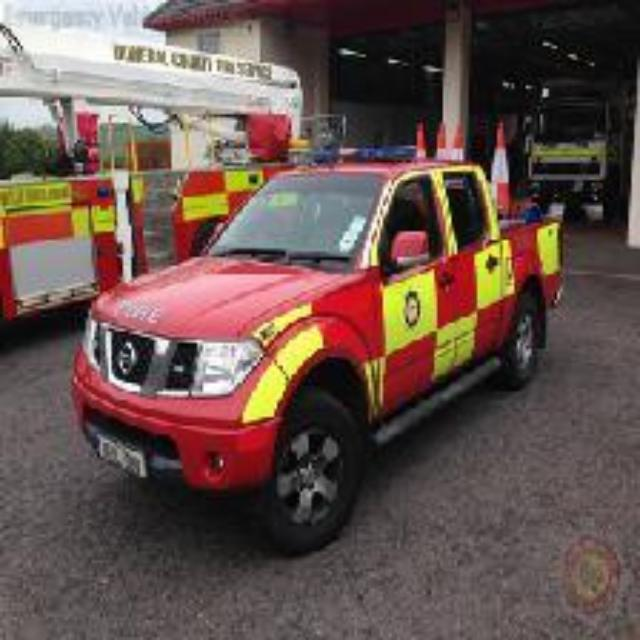emergency: (69, 155, 551, 537), (0, 20, 328, 300), (508, 92, 640, 216)
